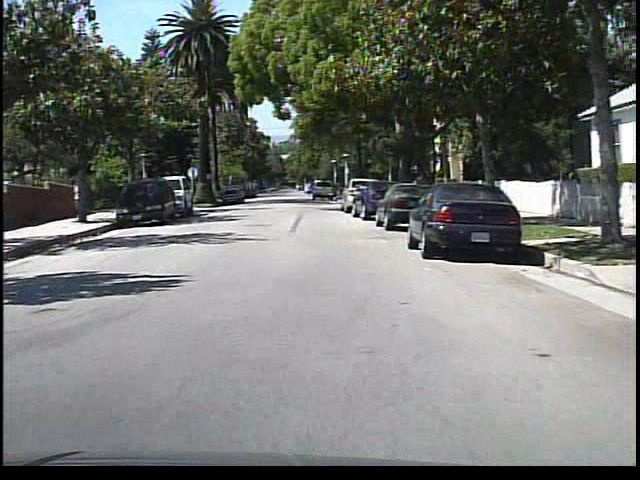person: (69, 179, 86, 218)
